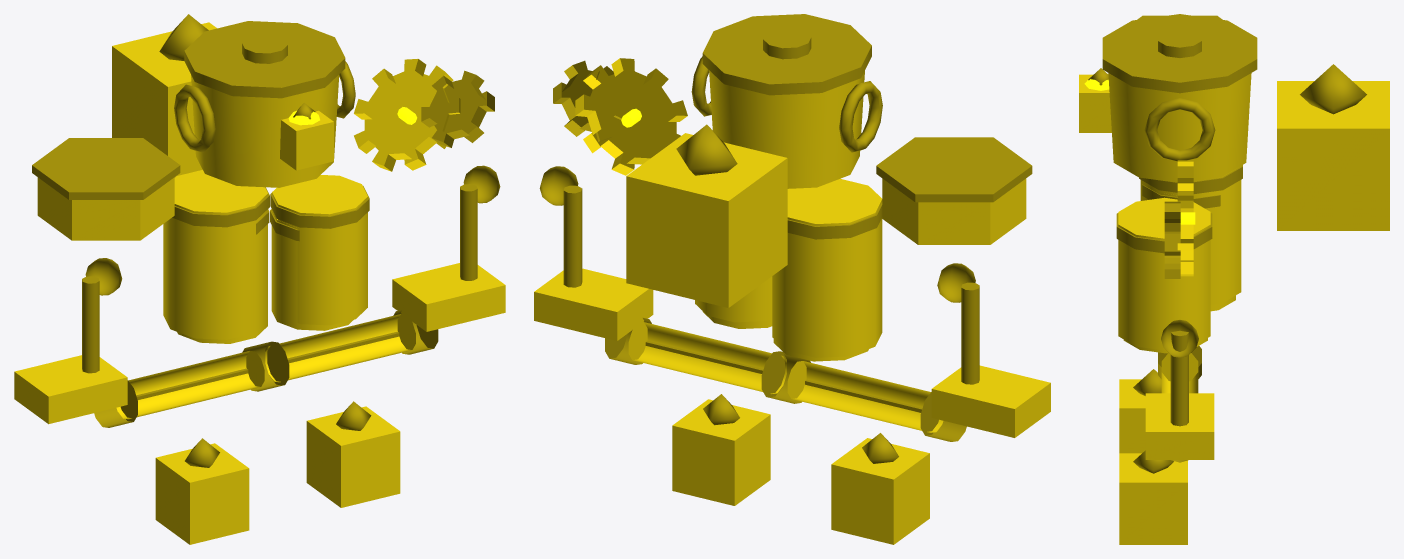
Rendered from golem_048.glb.
3 renders of one model, left to right at view 1: azimuth 30°, elevation 25°; view 2: azimuth 150°, elevation 25°; view 3: azimuth 270°, elevation 25°, orthographic. The views are drawn at different scales.
Visible parts, largest first — view 1: Body, Detail; view 2: Body, Detail; view 3: Body, Detail, Glow.
Part boxes in pixels (x1=…): Body: x1=14, y1=22, x2=505, y2=544; Detail: x1=32, y1=14, x2=500, y2=467; Body: x1=534, y1=58, x2=1050, y2=544; Detail: x1=539, y1=14, x2=1032, y2=463; Body: x1=1079, y1=73, x2=1389, y2=544; Detail: x1=1088, y1=14, x2=1366, y2=473; Glow: x1=1084, y1=79, x2=1195, y2=224.
Size of the model in its own units: 1.42 by 1.32 by 0.8149.
